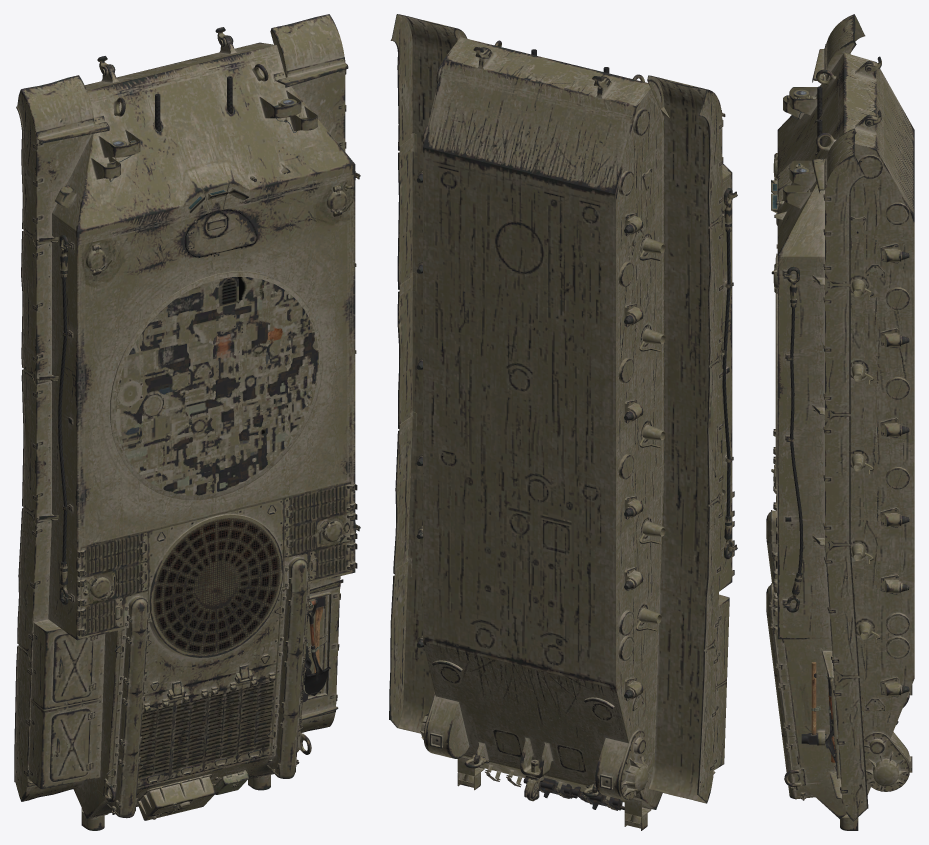
The model's file is Hull.glb.
The picture shows the model from 3 angles, left to right: view 1: azimuth 30°, elevation 25°; view 2: azimuth 150°, elevation 25°; view 3: azimuth 270°, elevation 25°; orthographic projection. The views are drawn at different scales.
Visible parts, largest first — view 1: set_0_group_0; view 2: set_0_group_0; view 3: set_0_group_0.
Boxes of the visible parts, x1,y1,x2,y2 form: set_0_group_0: (14, 14, 360, 830); set_0_group_0: (389, 14, 737, 830); set_0_group_0: (766, 14, 914, 830).
Size of the model in its own units: 3.04 by 6.99 by 1.33.
Materials: 1 (1 with a texture image).
